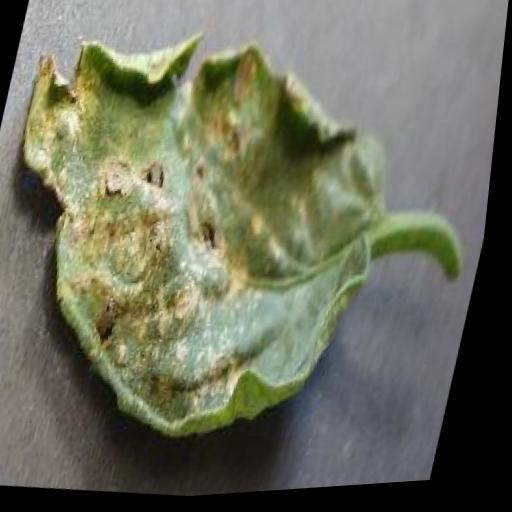Bacterial Spot: (0, 0, 446, 484)
